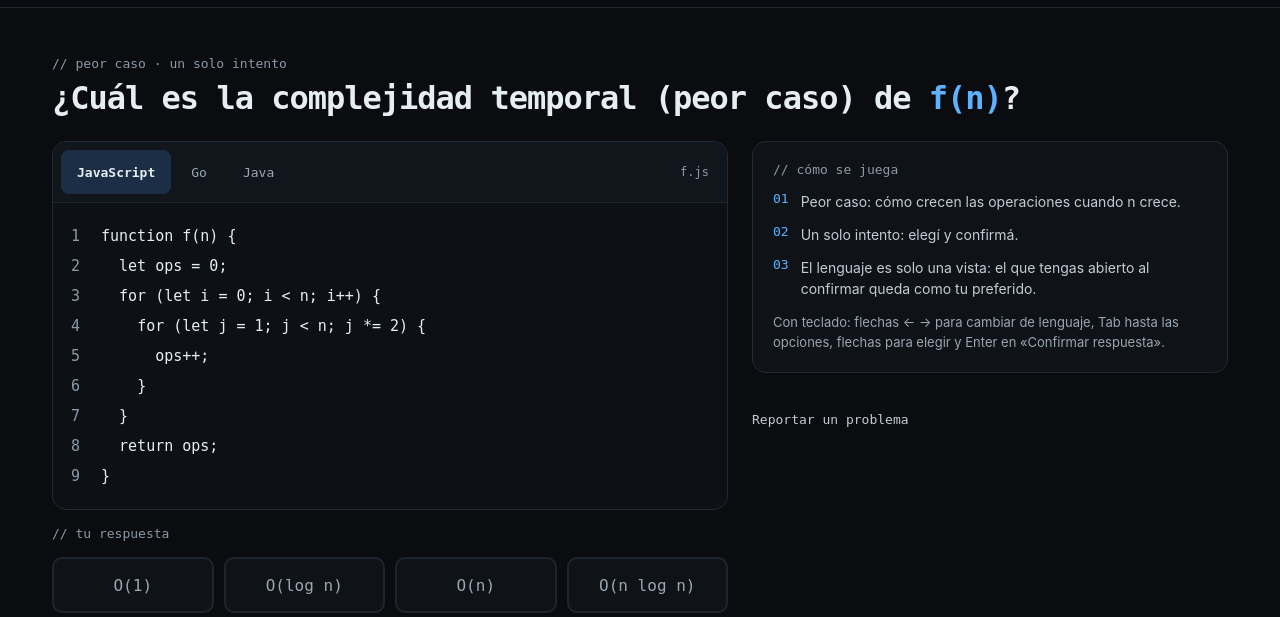
Test: errores del ciclo común › TS-23: 429 al confirmar
This screenshot has width=1280, height=617.
What coordinates should you click on to do the following:
click the radio button labelled "O(n)"
I would click on:
 (476, 585)
Its box is left=395, top=557, right=556, bottom=613.
(page scrolled)
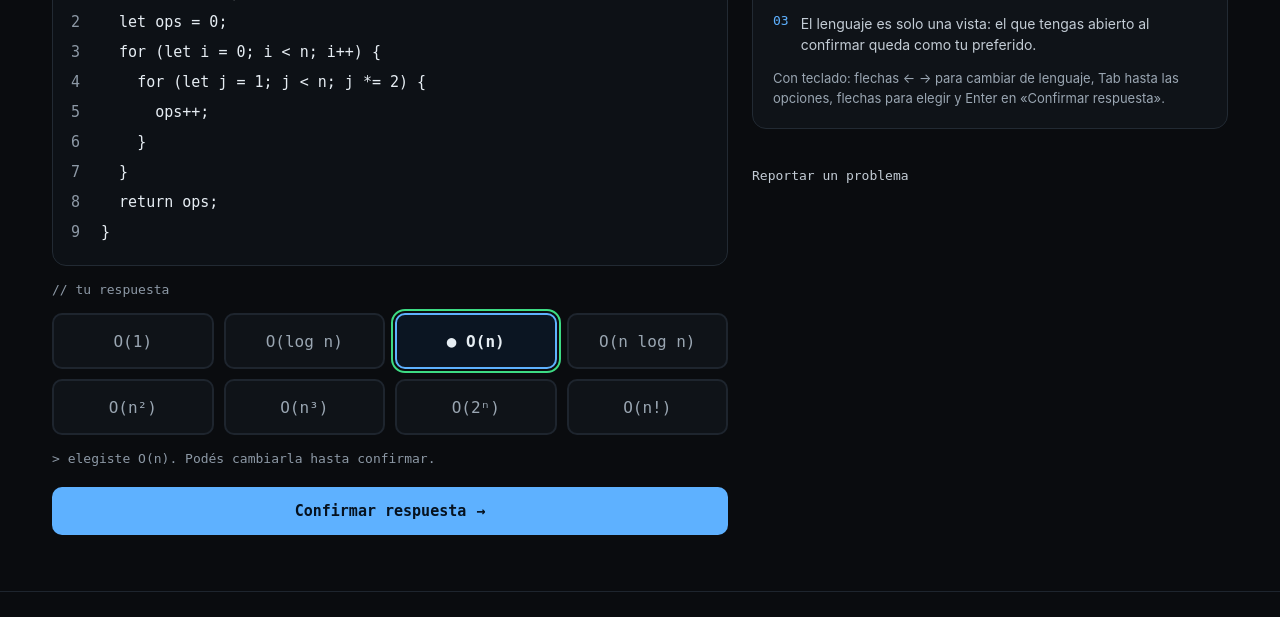
What coordinates should you click on to do the following:
click the button "Confirmar respuesta →"
I would click on:
 (390, 511)
Its box is left=52, top=487, right=728, bottom=535.
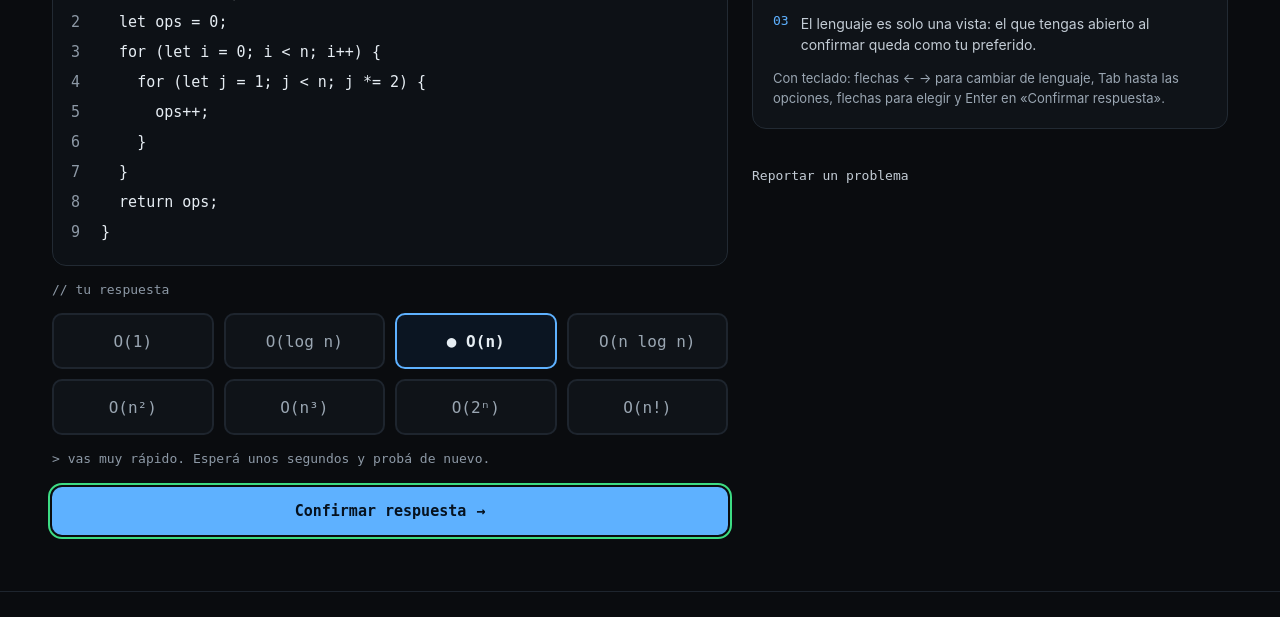
Check: the element named "Complejidad temporal de f(n)" is shown, box left=52, top=313, right=728, bottom=435
Check: the text "> vas muy rápido. Esperá unos segundos y probá de nuevo." is shown, box left=52, top=451, right=490, bottom=466
